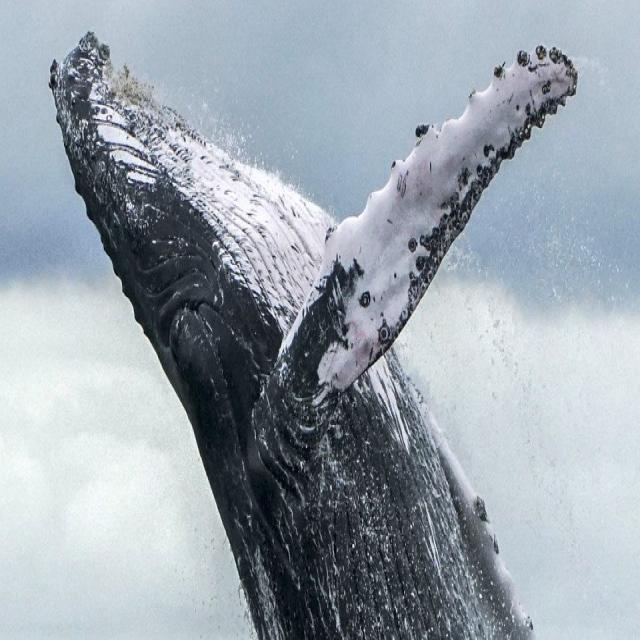whale: (49, 33, 577, 639)
